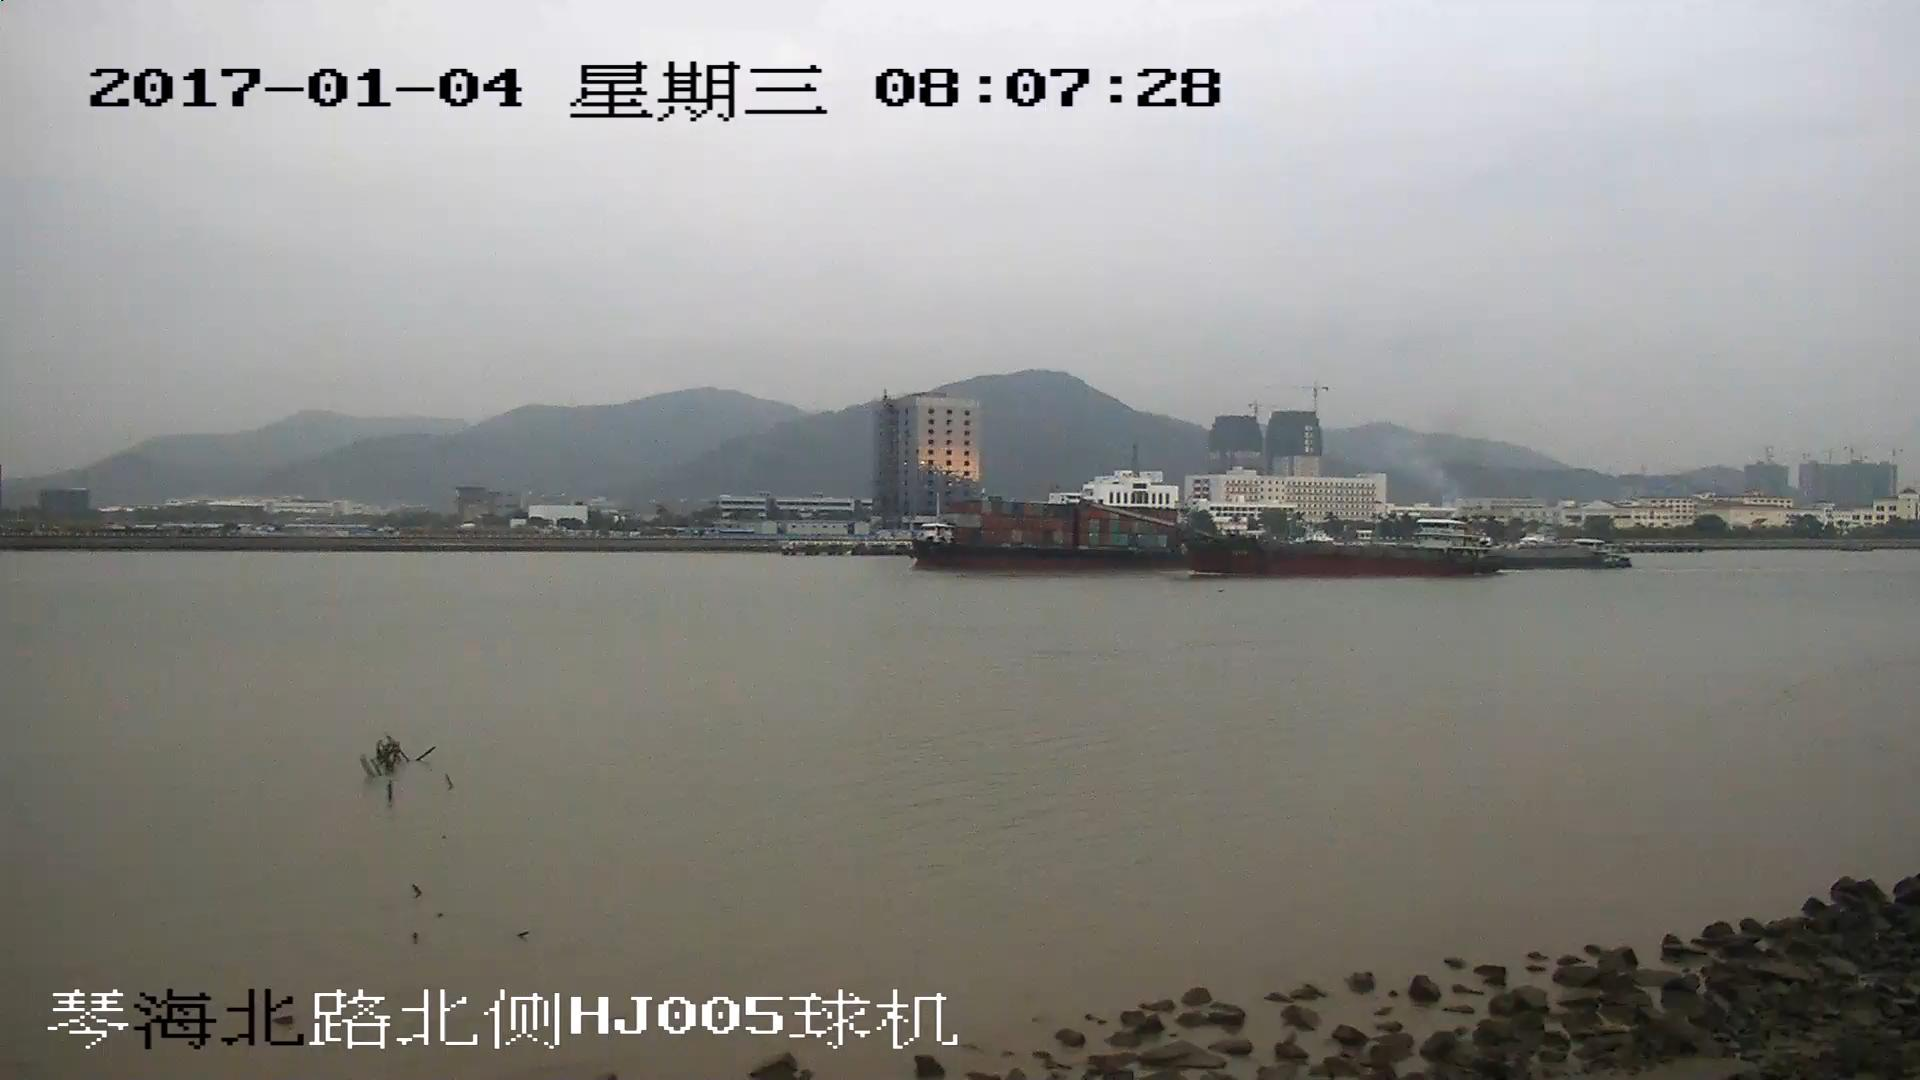Ship: (1092, 504, 1487, 576), (920, 498, 1178, 562), (1476, 545, 1629, 568)
